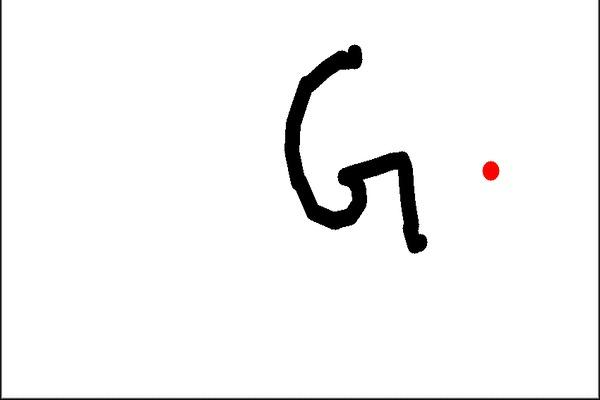G: (279, 40, 433, 257)
